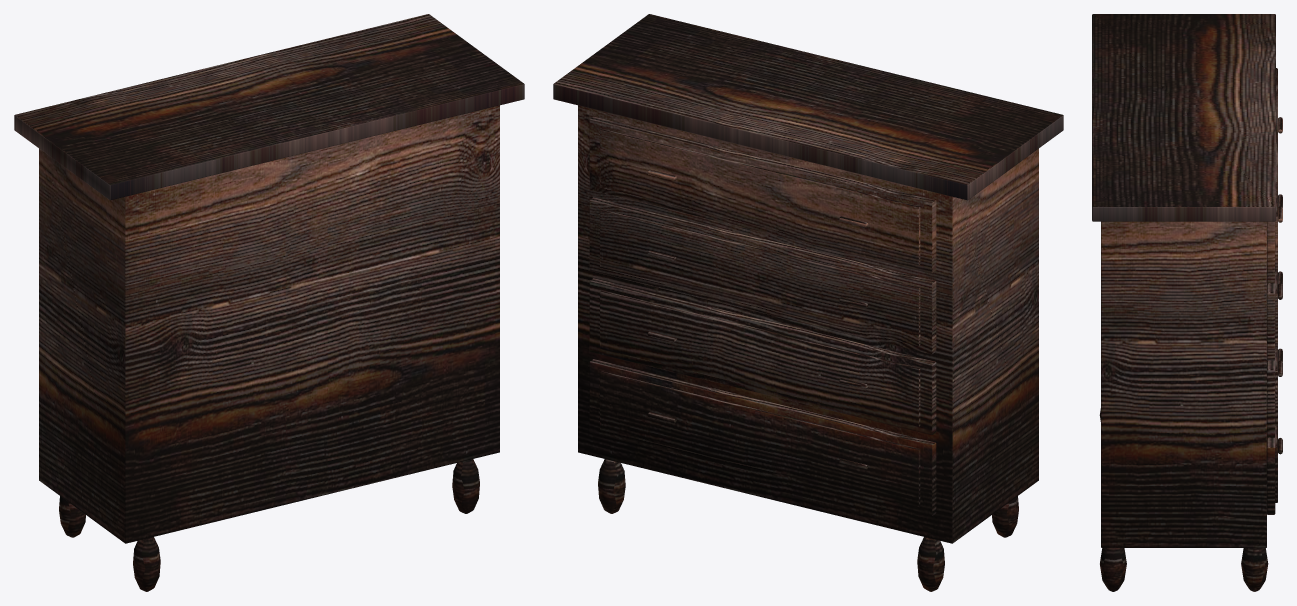
Rendered from Antique_Chest_07.fbx.
3 renders of one model, left to right at view 1: azimuth 30°, elevation 25°; view 2: azimuth 150°, elevation 25°; view 3: azimuth 270°, elevation 25°, orthographic. The views are drawn at different scales.
Parts seen in each view (by area): view 1: Antique_Chest; view 2: Antique_Chest; view 3: Antique_Chest.
Boxes of the visible parts, <box> form: Antique_Chest: <box>14,14,524,591</box>; Antique_Chest: <box>553,14,1063,591</box>; Antique_Chest: <box>1092,14,1282,591</box>.
Size of the model in its own units: 1.37 by 1.35 by 0.572.
1 material, 1 textured.
